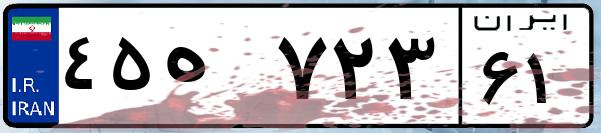1: (525, 38, 570, 115)
2: (330, 28, 385, 110)
3: (385, 28, 445, 110)
4: (57, 26, 110, 100)
5: (110, 28, 158, 98)
6: (475, 38, 525, 113)
7: (270, 28, 330, 110)
ه: (158, 20, 270, 120)
